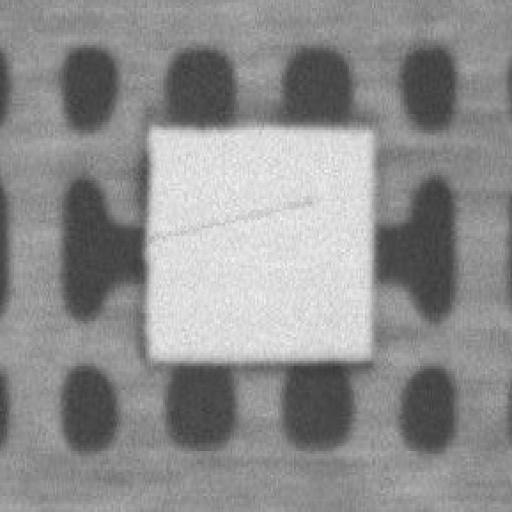DIE_CRACK: (220, 133, 462, 158)
